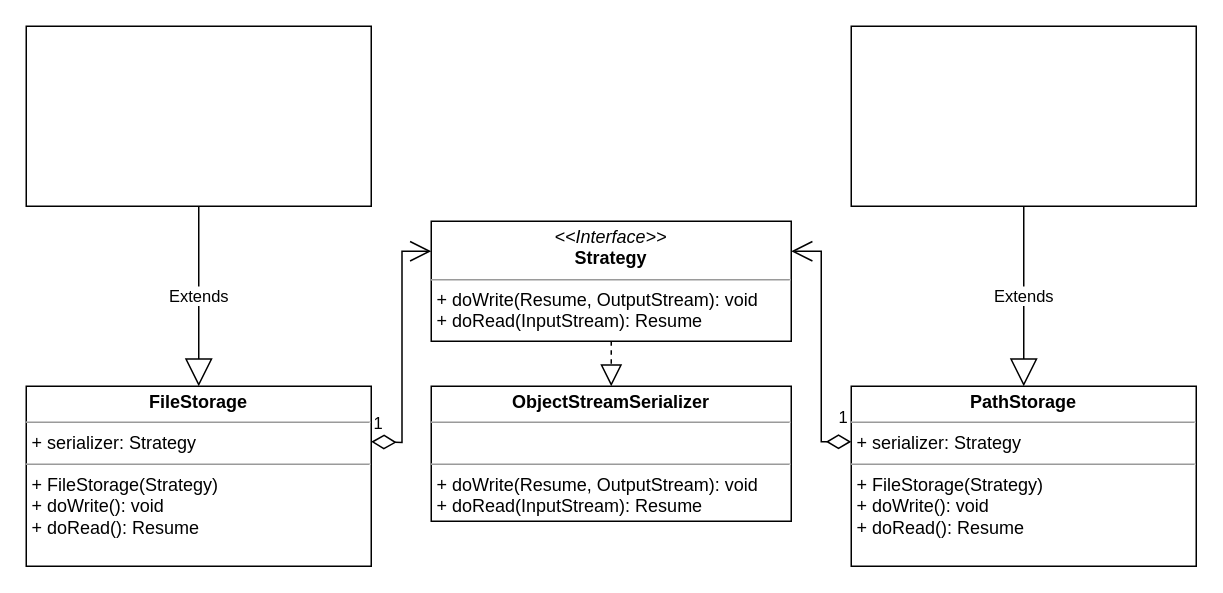
The diagram is 1223 pixels wide and 593 high, and some of its shapes have lost their labels. Each missing label, with the centre of its shape:
"AbstractFileStorage" belongs at (x=198, y=115).
"AbstractPathStorage" belongs at (x=1023, y=115).
